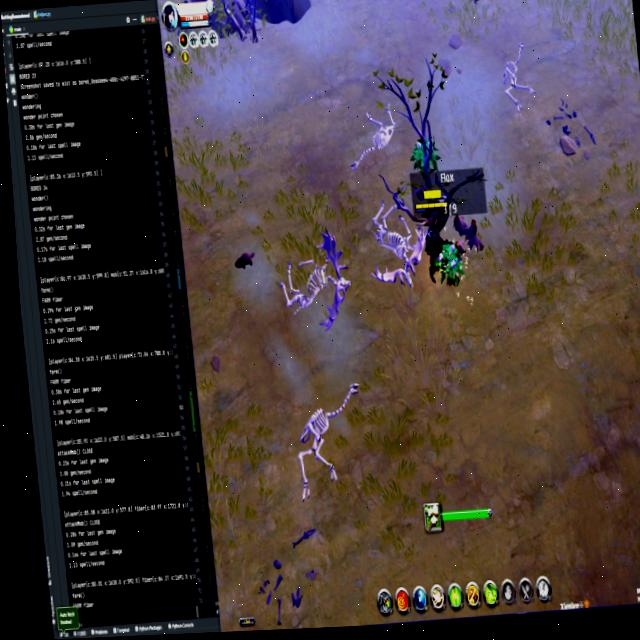hide: (407, 133, 441, 180), (436, 240, 465, 286)
red: (416, 198, 455, 286)
